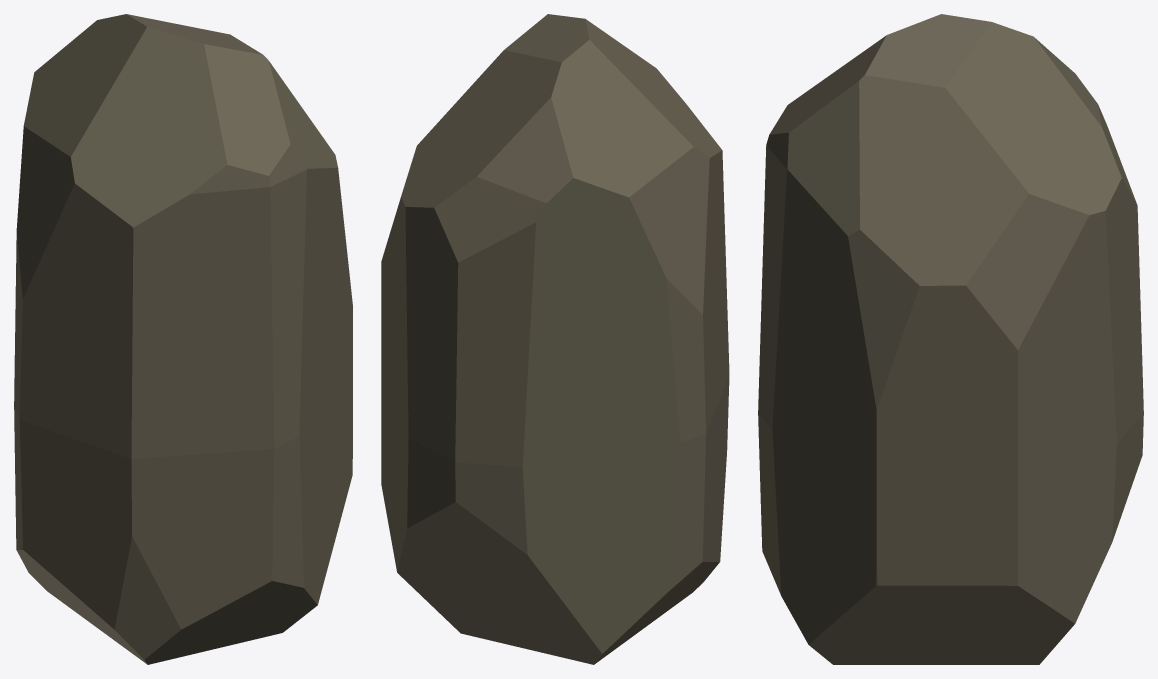
File: Rock_14.fbx
The picture shows the model from 3 angles, left to right: view 1: azimuth 30°, elevation 25°; view 2: azimuth 150°, elevation 25°; view 3: azimuth 270°, elevation 25°; orthographic projection. The views are drawn at different scales.
Visible parts, largest first — view 1: Rock_14_LOD0; view 2: Rock_14_LOD0; view 3: Rock_14_LOD0.
Part boxes in pixels (x1,y1,x2,y2): Rock_14_LOD0: [14, 14, 352, 664]; Rock_14_LOD0: [381, 14, 729, 664]; Rock_14_LOD0: [758, 14, 1143, 664].
Size of what is drawn, in the model's own units: 0.918 by 1.74 by 0.9968.
